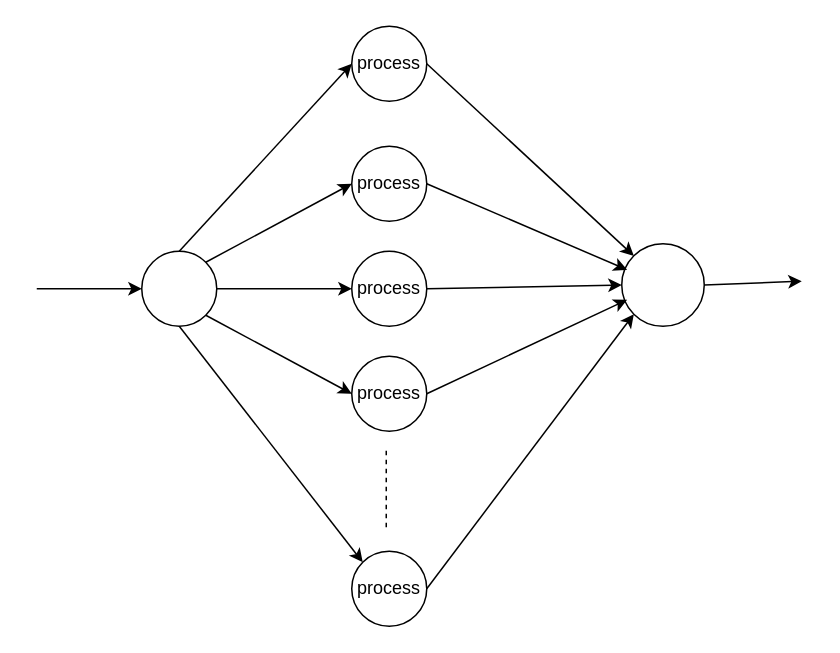
Some shapes in this 840 by 653 pixel diagram are drawn without their labels. Here are the shapes that lost their labels. From the top down, the centre of each, then its label:
[178,288]: scatter
[662,284]: gather
